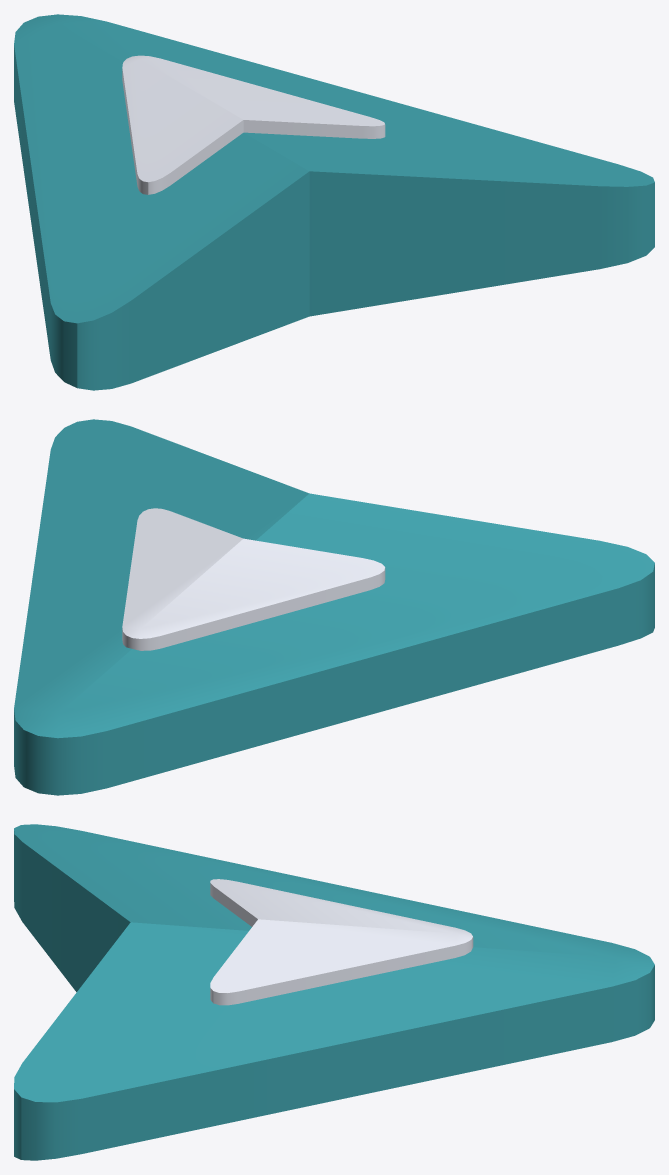
Rendered from arrow.fbx.
The picture shows the model from 3 angles, top to bottom: view 1: azimuth 30°, elevation 25°; view 2: azimuth 150°, elevation 25°; view 3: azimuth 270°, elevation 25°; orthographic projection. The views are drawn at different scales.
Parts seen in each view (by area): view 1: Cube.002; view 2: Cube.002; view 3: Cube.002.
Boxes of the visible parts, x1,y1,x2,y2 form: Cube.002: (14,14,654,390); Cube.002: (14,419,654,795); Cube.002: (14,824,654,1160).
Size of the model in its own units: 178 by 43.49 by 174.
